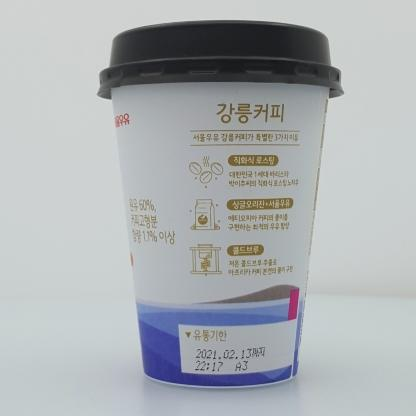----------250ML: (96, 19, 343, 390)
